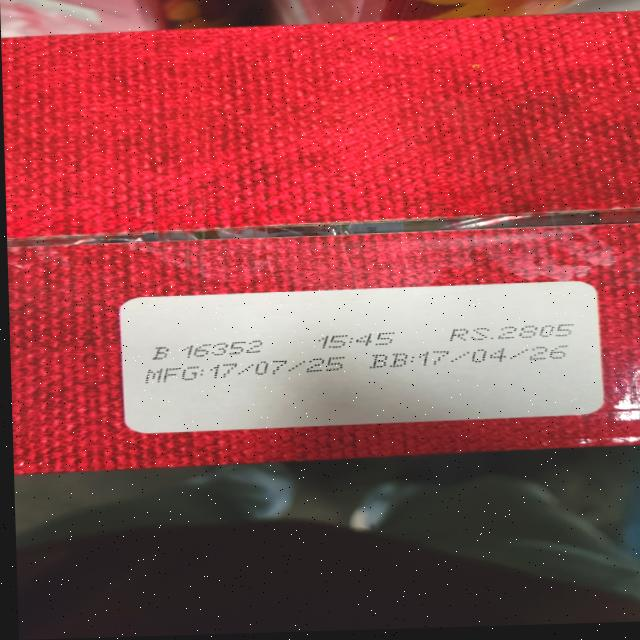BB: (369, 344, 572, 368)
Batch: (151, 341, 268, 359)
MFG: (145, 355, 351, 383)
RS: (448, 324, 577, 342)
TimeStamp: (316, 332, 399, 348)
